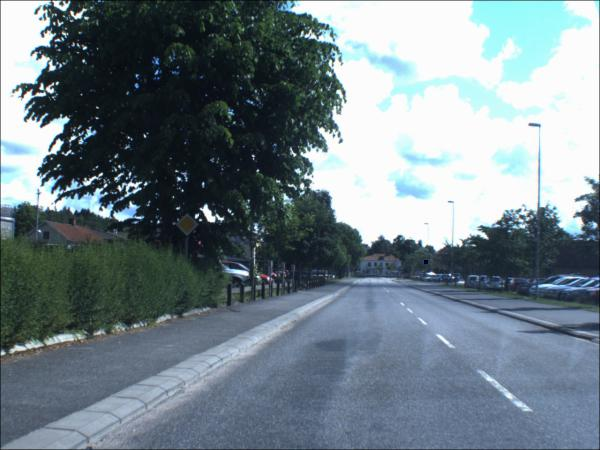PEDESTRIAN_CROSSING: (424, 261, 429, 266)
PRIORITY_ROAD: (174, 211, 200, 241)
